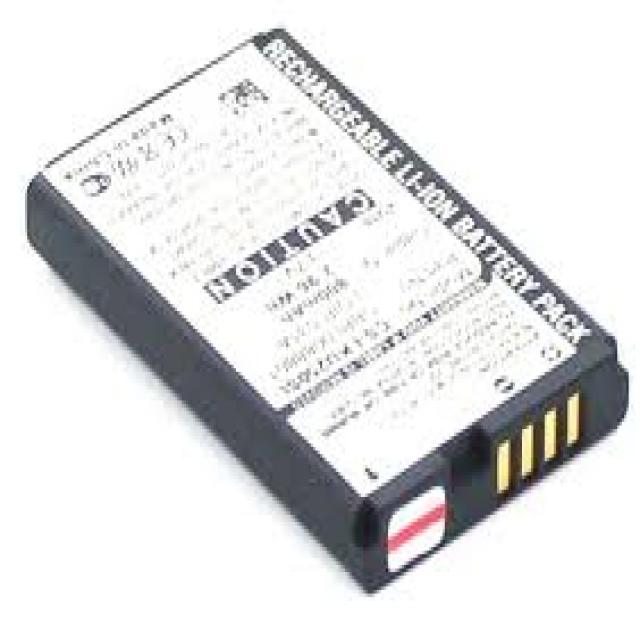non-organic waste: (22, 23, 630, 597)
